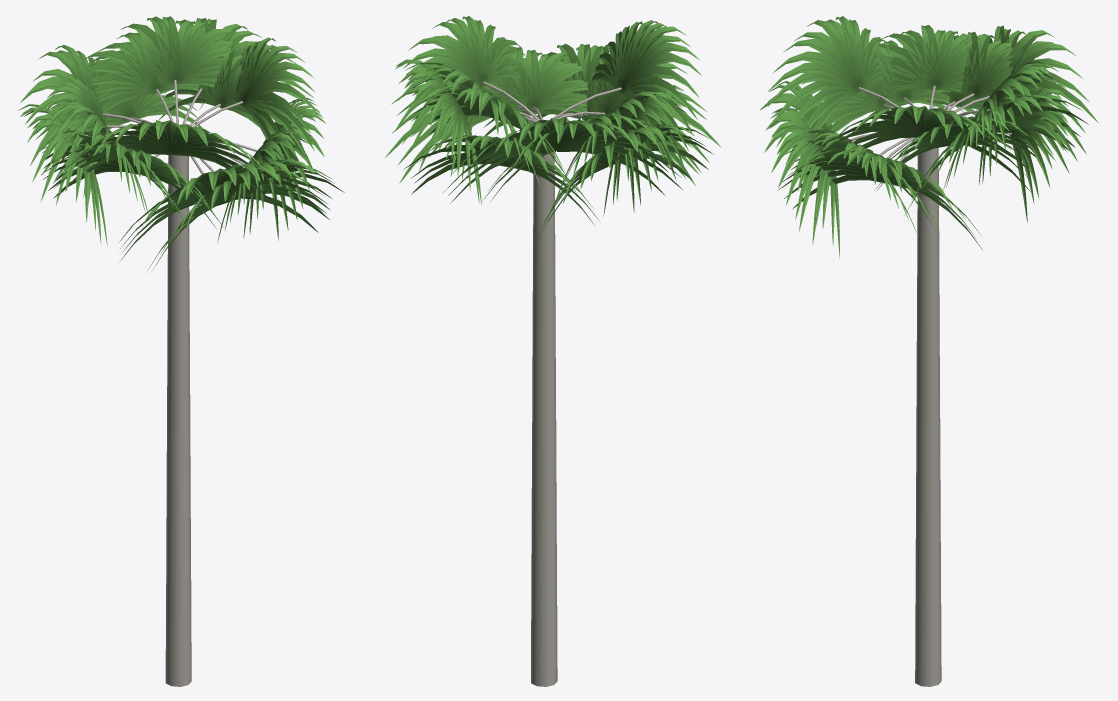
File: livistona-chinensis.glb
The picture shows the model from 3 angles, left to right: view 1: azimuth 30°, elevation 25°; view 2: azimuth 150°, elevation 25°; view 3: azimuth 270°, elevation 25°; orthographic projection. The views are drawn at different scales.
Visible parts, largest first — view 1: fronde, estipe; view 2: fronde, estipe; view 3: fronde, estipe.
Part boxes in pixels (x1,y1,x2,y2): fronde: (18, 16, 344, 270); estipe: (103, 80, 257, 686); fronde: (385, 16, 721, 242); estipe: (483, 81, 621, 686); fronde: (760, 16, 1098, 258); estipe: (850, 85, 1011, 686).
Bounding box in the file's own units: 3.86 × 8 × 4.
2 materials, 1 textured.
